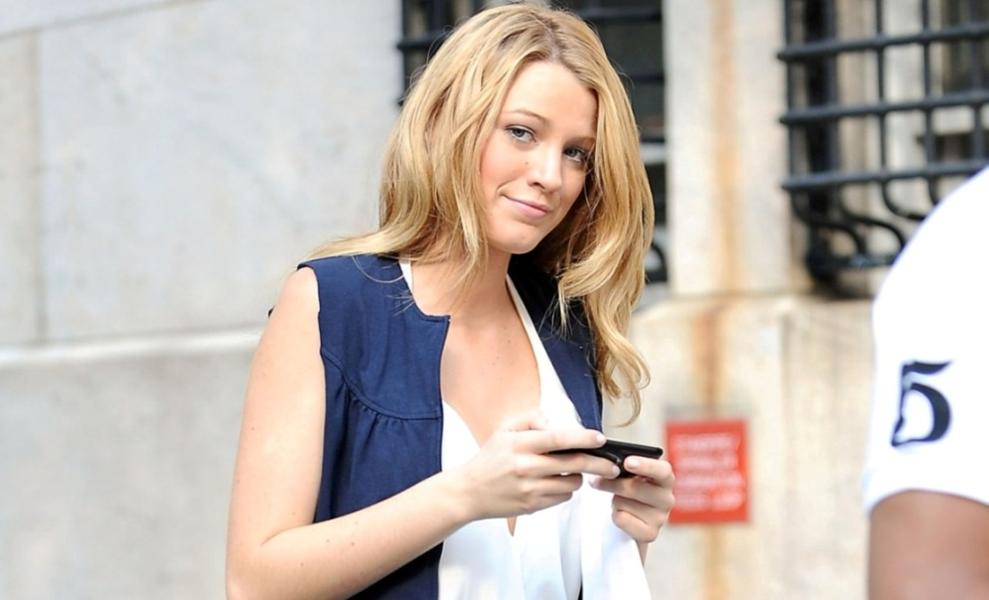person: (225, 8, 675, 598)
